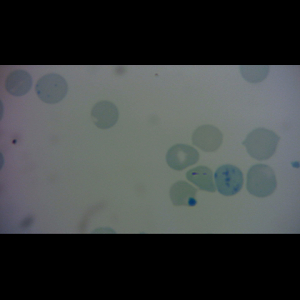aggregate reticulocyte: (213, 163, 246, 198)
erythrocyte: (241, 126, 281, 162), (244, 162, 279, 199), (190, 124, 225, 154), (165, 143, 201, 171), (90, 99, 121, 131), (185, 165, 218, 194), (168, 179, 200, 208), (3, 69, 33, 97)
punctate reticulocyte: (34, 72, 69, 105)
